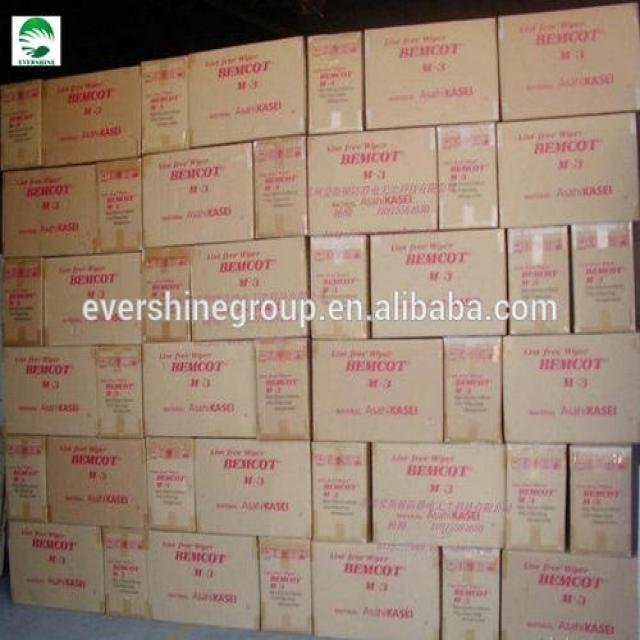box: (498, 2, 639, 120), (497, 113, 639, 227), (364, 18, 499, 130), (370, 229, 507, 339), (502, 332, 639, 442), (307, 126, 438, 236), (372, 442, 504, 548), (311, 338, 443, 443), (188, 36, 307, 148), (189, 236, 309, 341), (500, 549, 639, 639), (312, 541, 440, 638), (193, 437, 312, 539), (141, 142, 254, 248), (141, 340, 258, 439), (146, 530, 259, 632), (42, 66, 141, 167), (46, 436, 147, 529), (2, 163, 99, 258), (44, 251, 142, 345), (8, 521, 105, 613), (3, 345, 97, 437), (571, 221, 635, 334), (570, 444, 632, 556), (508, 224, 570, 334), (436, 122, 498, 230), (505, 443, 566, 551), (310, 234, 370, 340), (444, 336, 503, 443), (312, 441, 370, 542), (308, 32, 363, 135), (255, 338, 311, 439), (253, 135, 307, 239), (442, 547, 501, 639), (258, 536, 312, 635), (141, 54, 189, 155), (145, 437, 196, 532), (142, 246, 191, 343), (95, 345, 144, 438), (102, 526, 149, 619), (95, 157, 141, 252), (0, 79, 42, 170), (5, 436, 47, 523), (3, 258, 44, 346)
